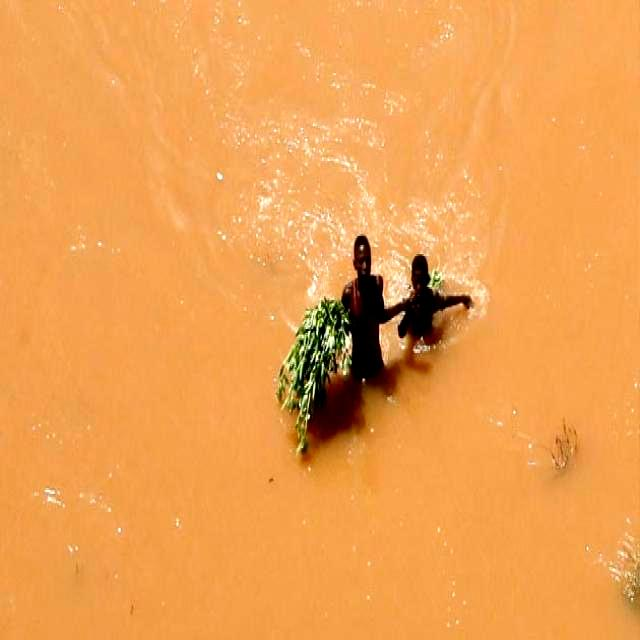civilian: (334, 230, 417, 388), (390, 247, 481, 352)
